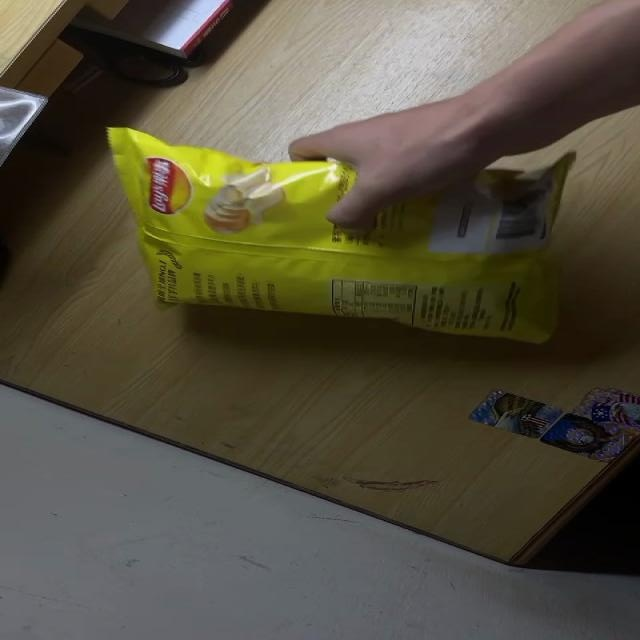Lay-s-original: (105, 126, 578, 347)
